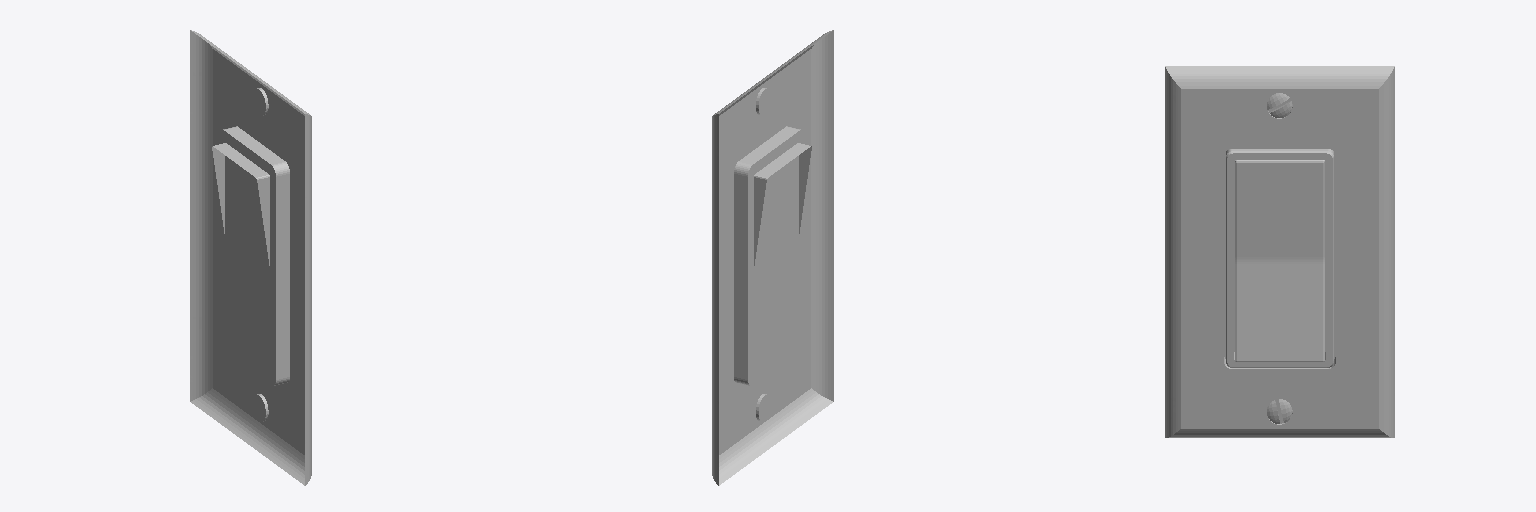
Rendered from Interruptor.obj.
The picture shows the model from 3 angles: view 1: azimuth 30°, elevation 25°; view 2: azimuth 150°, elevation 25°; view 3: azimuth 270°, elevation 25°; orthographic projection.
Visible parts, largest first — view 1: CoverPlate.001_lightswitch_0, Switch.001_lightswitch_0; view 2: CoverPlate.001_lightswitch_0, Switch.001_lightswitch_0; view 3: CoverPlate.001_lightswitch_0, Switch.001_lightswitch_0, SwitchHolder.001_lightswitch_0.
Part boxes in pixels (left/top/right/bottom): CoverPlate.001_lightswitch_0: left=190, top=30, right=311, bottom=485; Switch.001_lightswitch_0: left=212, top=143, right=269, bottom=265; CoverPlate.001_lightswitch_0: left=712, top=30, right=833, bottom=485; Switch.001_lightswitch_0: left=754, top=143, right=811, bottom=265; CoverPlate.001_lightswitch_0: left=1165, top=66, right=1394, bottom=437; Switch.001_lightswitch_0: left=1235, top=160, right=1324, bottom=361; SwitchHolder.001_lightswitch_0: left=1226, top=149, right=1333, bottom=367.
Bounding box in the file's own units: 0.1101 × 0.9 × 0.5051.